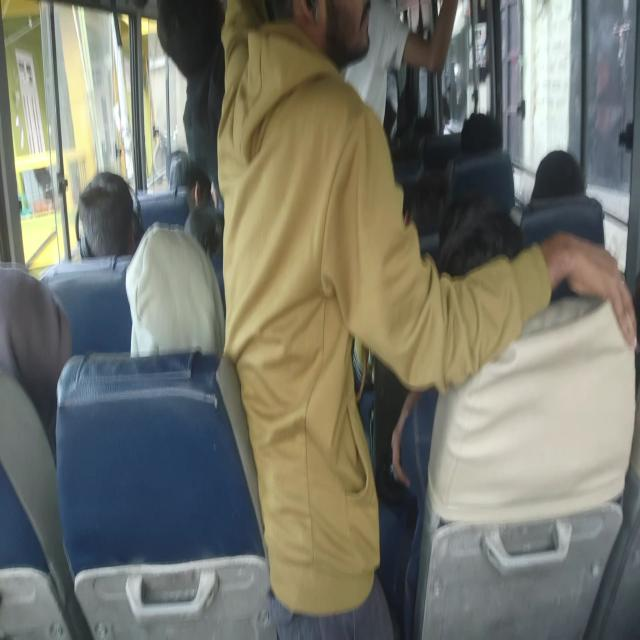person: (0, 257, 80, 629), (257, 0, 371, 164), (128, 223, 225, 358), (437, 192, 522, 280), (74, 172, 144, 263), (405, 171, 453, 236), (530, 149, 584, 199), (459, 111, 503, 154), (183, 160, 216, 213), (392, 152, 425, 187), (442, 90, 464, 136), (167, 150, 189, 192), (440, 158, 456, 192), (417, 114, 434, 136), (442, 90, 450, 127)
